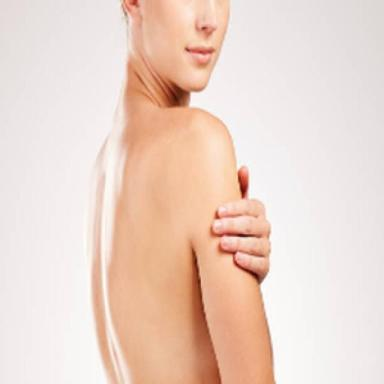normal skin: (92, 0, 275, 384)
